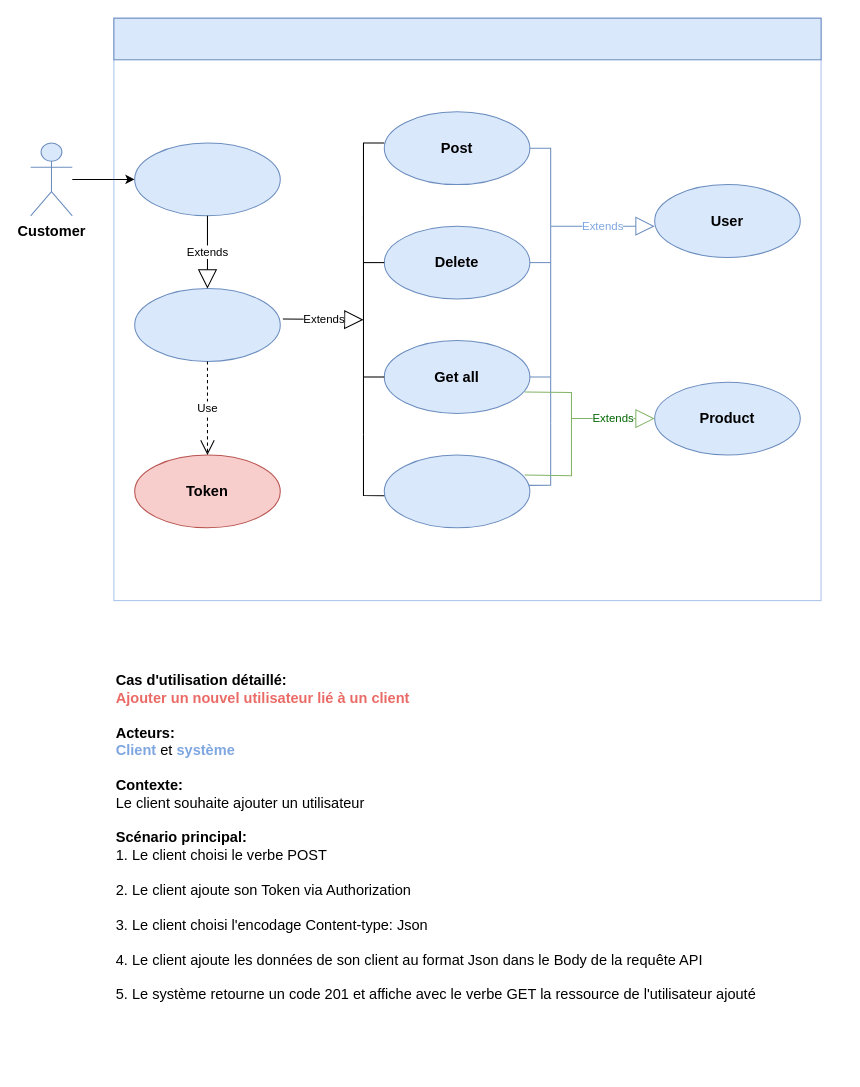
This 860x1087 diagram has some shape labels left out. The shapes that lost their labels are listed below. From the top down, each one's centre as x and y in pixels, then its label:
(467,38): BileMo App: use-case
(207,179): Register
(207,324): Authenticate
(456,491): Get one
